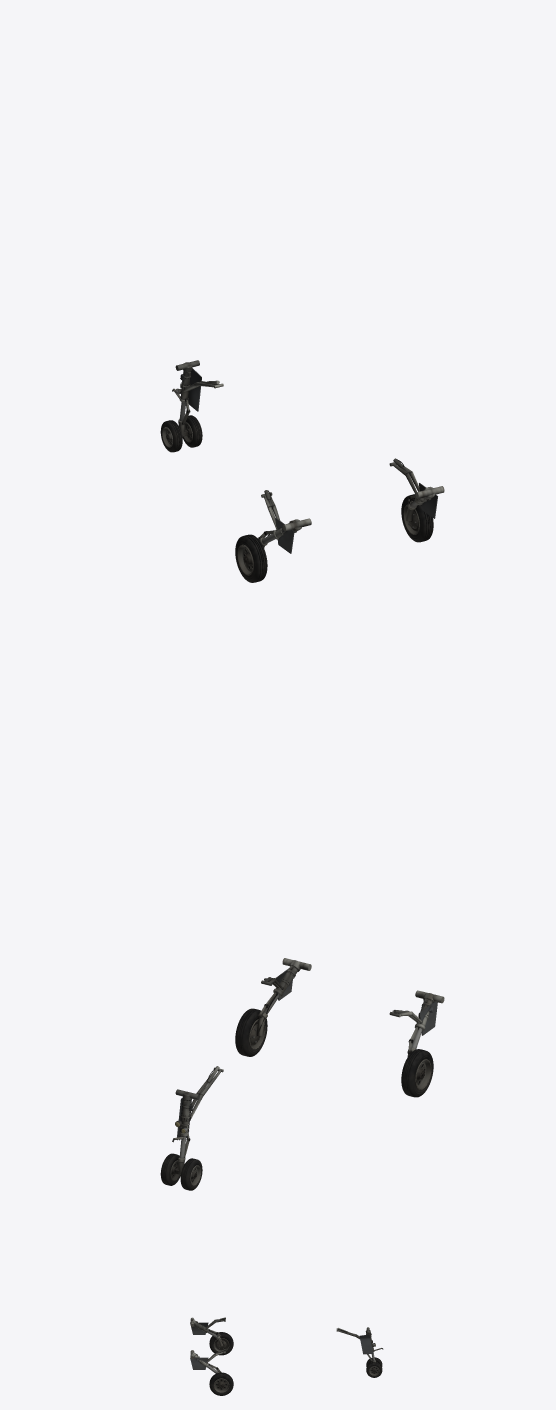
File: f18c_gear.glb
The picture shows the model from 3 angles, top to bottom: view 1: azimuth 30°, elevation 25°; view 2: azimuth 150°, elevation 25°; view 3: azimuth 270°, elevation 25°; orthographic projection. The views are drawn at different scales.
Parts seen in each view (by area): view 1: gear_n, gear_w_l, gear_w_r, gear_m_l, gear_m_r; view 2: gear_n, gear_w_l, gear_w_r, gear_m_r, gear_m_l; view 3: gear_n, gear_w_r, gear_w_l, gear_m_l, gear_m_r.
Part boxes in pixels (x1,y1,x2,y2): gear_n: (160,360,202,452); gear_w_l: (235,534,267,582); gear_w_r: (401,494,433,542); gear_m_l: (258,518,311,553); gear_m_r: (406,483,444,521); gear_n: (160,1089,202,1190); gear_w_l: (401,1049,433,1097); gear_w_r: (235,1008,267,1056); gear_m_r: (257,958,311,1035); gear_m_l: (407,990,444,1056); gear_n: (359,1327,383,1377); gear_w_r: (209,1372,233,1395); gear_w_l: (209,1332,233,1355); gear_m_l: (190,1317,223,1346); gear_m_r: (190,1350,221,1373).
Bounding box in the file's own units: 3.34 × 5.56 × 17.07.
1 material, 1 textured.
